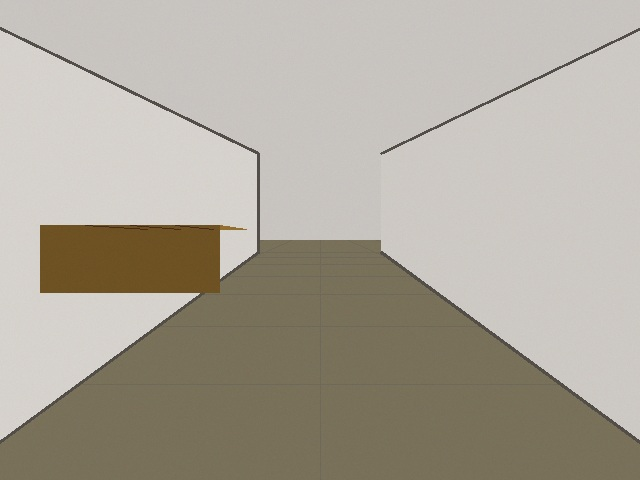pallet: (40, 225, 246, 292)
